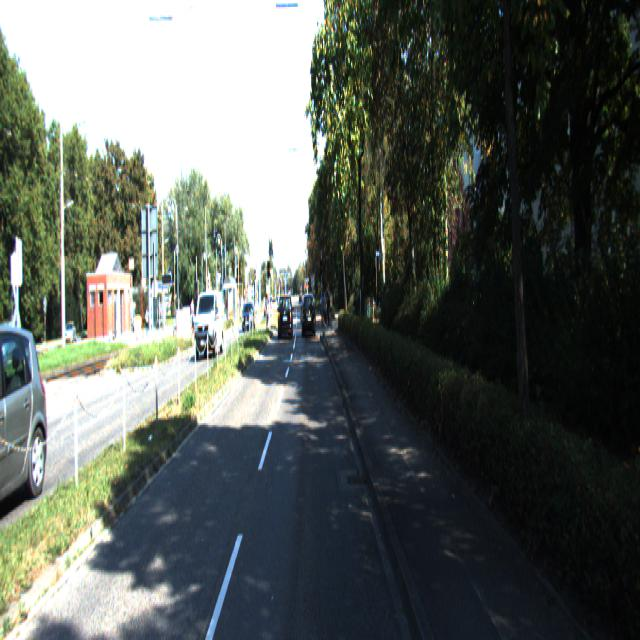Car: (0, 307, 54, 524), (194, 291, 224, 359), (278, 296, 293, 342), (302, 294, 316, 339), (242, 303, 255, 334)
